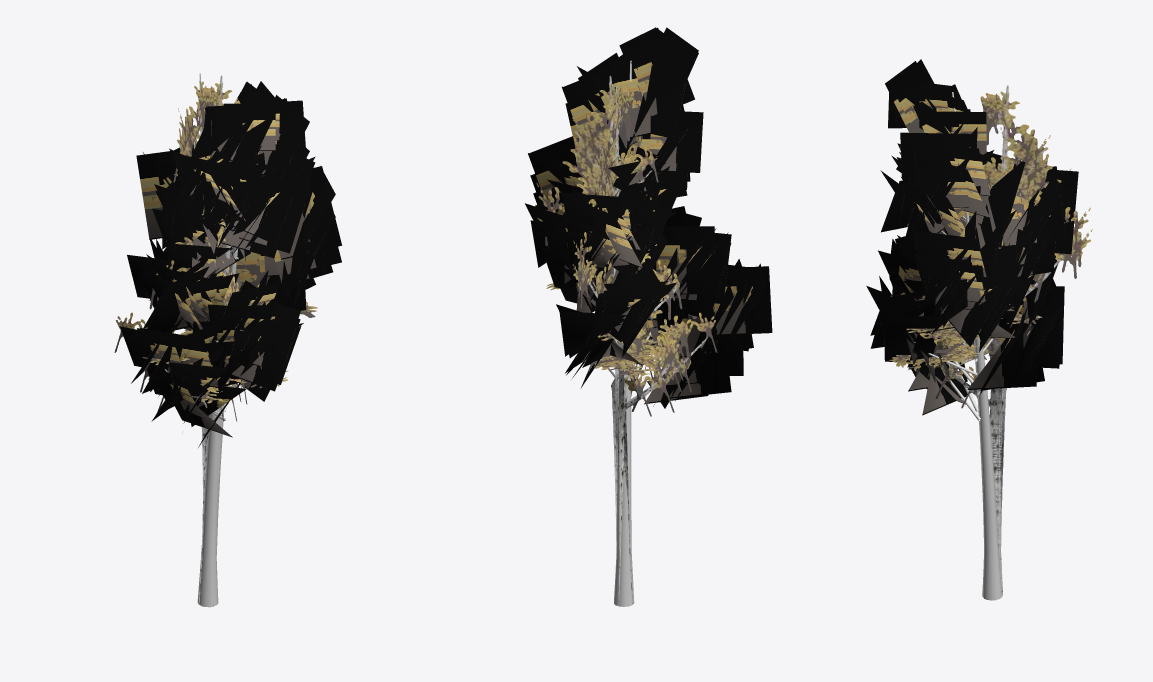
Rendered from tree-birch.glb.
The picture shows the model from 3 angles, left to right: view 1: azimuth 30°, elevation 25°; view 2: azimuth 150°, elevation 25°; view 3: azimuth 270°, elevation 25°; orthographic projection. The views are drawn at different scales.
Parts seen in each view (by area): view 1: lod0-leaves-0, lod0-leaves-1, impostor-0, lod0-wood-0, lod0-wood-1, impostor-1; view 2: lod0-leaves-0, lod0-leaves-1, impostor-0, impostor-1, lod0-wood-0, lod0-wood-1; view 3: lod0-leaves-0, lod0-leaves-1, impostor-0, lod0-wood-1, impostor-1, lod0-wood-0.
Part boxes in pixels (x1,y1,x2,y2): lod0-leaves-0: (120, 81, 342, 421); lod0-leaves-1: (127, 145, 315, 447); impostor-0: (114, 73, 317, 603); lod0-wood-0: (164, 90, 241, 607); lod0-wood-1: (198, 247, 238, 606); impostor-1: (148, 136, 288, 605); lod0-leaves-0: (528, 27, 772, 389); lod0-leaves-1: (525, 141, 753, 408); impostor-0: (535, 75, 717, 606); impostor-1: (584, 141, 683, 604); lod0-wood-0: (590, 60, 663, 606); lod0-wood-1: (603, 143, 632, 606); lod0-leaves-0: (878, 59, 1078, 367); lod0-leaves-1: (866, 151, 1064, 415); impostor-0: (890, 85, 1092, 596); lod0-wood-1: (914, 212, 1030, 600); impostor-1: (889, 152, 1039, 595); lod0-wood-0: (941, 92, 1050, 600).
Size of the model in its own units: 8.05 by 16.1 by 8.05.
4 materials, 3 textured.
